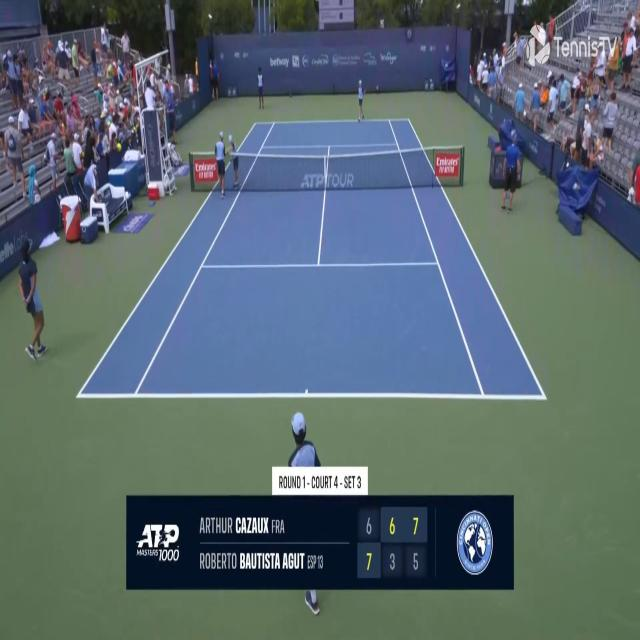tennis-player: (355, 77, 365, 123)
